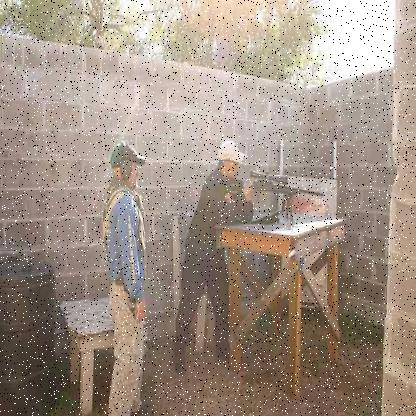rifle: (244, 162, 331, 220)
